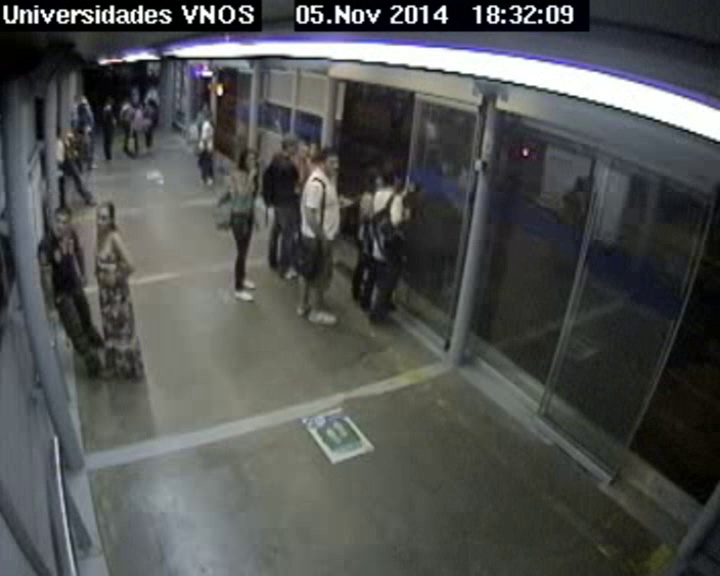person: (92, 202, 118, 232), (319, 147, 343, 176), (51, 206, 74, 236), (240, 148, 259, 169), (281, 134, 300, 155), (380, 164, 397, 185), (365, 167, 381, 189), (298, 138, 311, 154), (309, 142, 321, 157), (202, 110, 213, 122), (74, 130, 85, 142), (77, 104, 87, 115), (200, 101, 209, 111), (130, 86, 139, 95), (103, 97, 112, 106), (54, 128, 62, 138), (146, 101, 154, 109), (122, 94, 129, 102), (148, 84, 155, 92), (134, 99, 141, 107)
